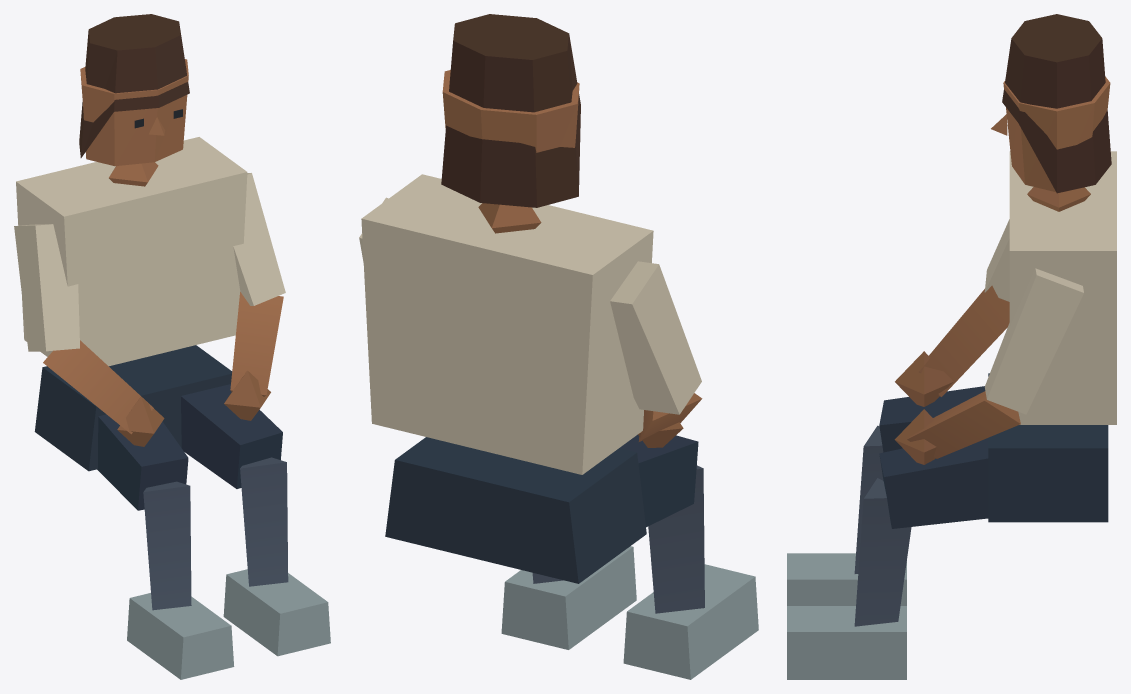
The model's file is fan-06.glb.
3 renders of one model, left to right at view 1: azimuth 30°, elevation 25°; view 2: azimuth 150°, elevation 25°; view 3: azimuth 270°, elevation 25°, orthographic. The views are drawn at different scales.
Parts seen in each view (by area): view 1: fan-06; view 2: fan-06; view 3: fan-06.
Boxes of the visible parts, box(x1,y1,x2,y2) form: fan-06: box(14, 14, 330, 679); fan-06: box(359, 14, 758, 679); fan-06: box(787, 14, 1116, 679).
Size of the model in its own units: 0.7244 by 1.55 by 0.77.
